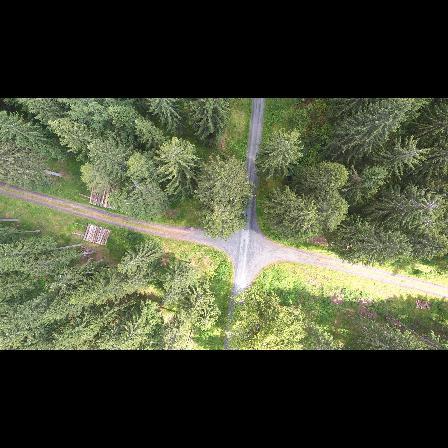Sick: (403, 140, 428, 164), (125, 175, 147, 197), (421, 194, 443, 215)
